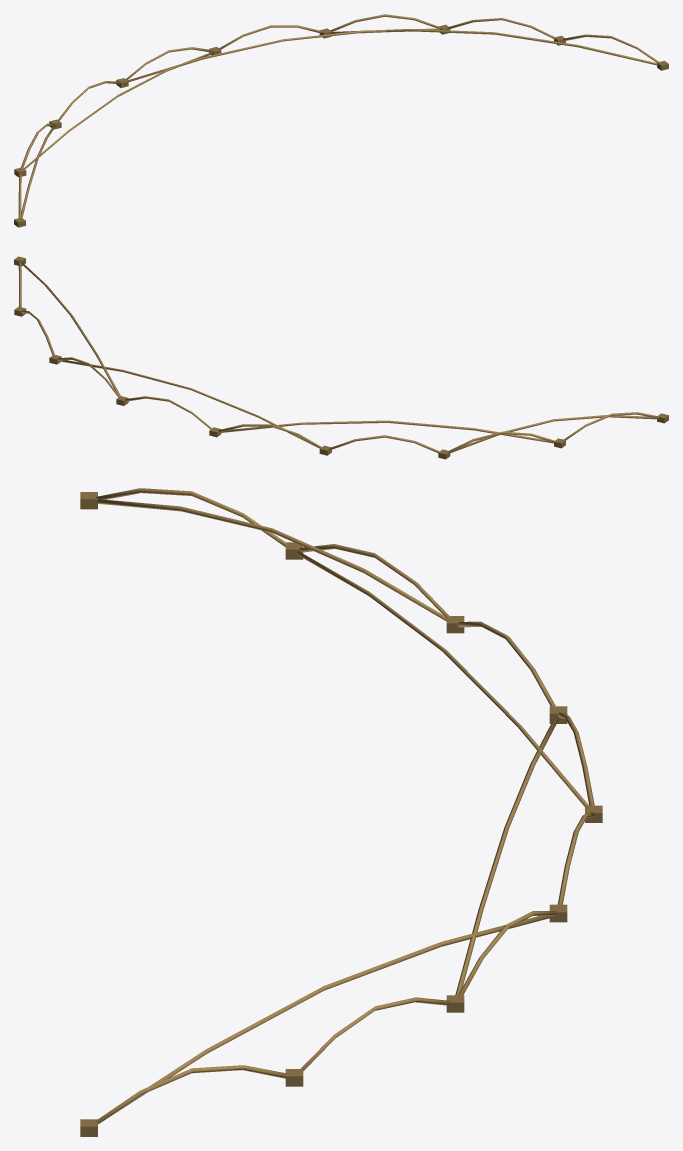
File: relationship-filaments.mobile.glb
The picture shows the model from 3 angles, top to bottom: view 1: azimuth 30°, elevation 25°; view 2: azimuth 150°, elevation 25°; view 3: azimuth 270°, elevation 25°; orthographic projection. The views are drawn at different scales.
Visible parts, largest first — view 1: SA_A03_MESH_68, SA_A03_MESH_72, SA_A03_MESH_69, SA_A03_MESH_70, SA_A03_MESH_62, SA_A03_MESH_61; view 2: SA_A03_MESH_70, SA_A03_MESH_72, SA_A03_MESH_69, SA_A03_MESH_71, SA_A03_MESH_68, SA_A03_MESH_65, SA_A03_MESH_66, SA_A03_MESH_64; view 3: SA_A03_MESH_72, SA_A03_MESH_68, SA_A03_MESH_71, SA_A03_MESH_70, SA_A03_MESH_69, SA_A03_MESH_60, SA_A03_MESH_67.
Part boxes in pixels (box(x1,y1,x2,y2)): SA_A03_MESH_68: box(331, 29, 657, 65); SA_A03_MESH_72: box(14, 24, 668, 227); SA_A03_MESH_69: box(127, 28, 440, 81); SA_A03_MESH_70: box(23, 52, 213, 169); SA_A03_MESH_62: box(329, 14, 439, 31); SA_A03_MESH_61: box(447, 18, 556, 39); SA_A03_MESH_70: box(220, 420, 553, 443); SA_A03_MESH_72: box(14, 256, 668, 459); SA_A03_MESH_69: box(58, 360, 319, 448); SA_A03_MESH_71: box(450, 415, 658, 453); SA_A03_MESH_68: box(21, 262, 120, 396); SA_A03_MESH_65: box(329, 435, 440, 452); SA_A03_MESH_66: box(448, 431, 556, 452); SA_A03_MESH_64: box(218, 424, 322, 448); SA_A03_MESH_72: box(80, 492, 602, 1136); SA_A03_MESH_68: box(104, 916, 553, 1120); SA_A03_MESH_71: box(96, 499, 446, 621); SA_A03_MESH_70: box(296, 551, 588, 806); SA_A03_MESH_69: box(455, 715, 559, 995); SA_A03_MESH_60: box(94, 1065, 288, 1124); SA_A03_MESH_67: box(95, 488, 288, 546).
Bounding box in the file's own units: 6.77 × 0.198 × 2.36.
